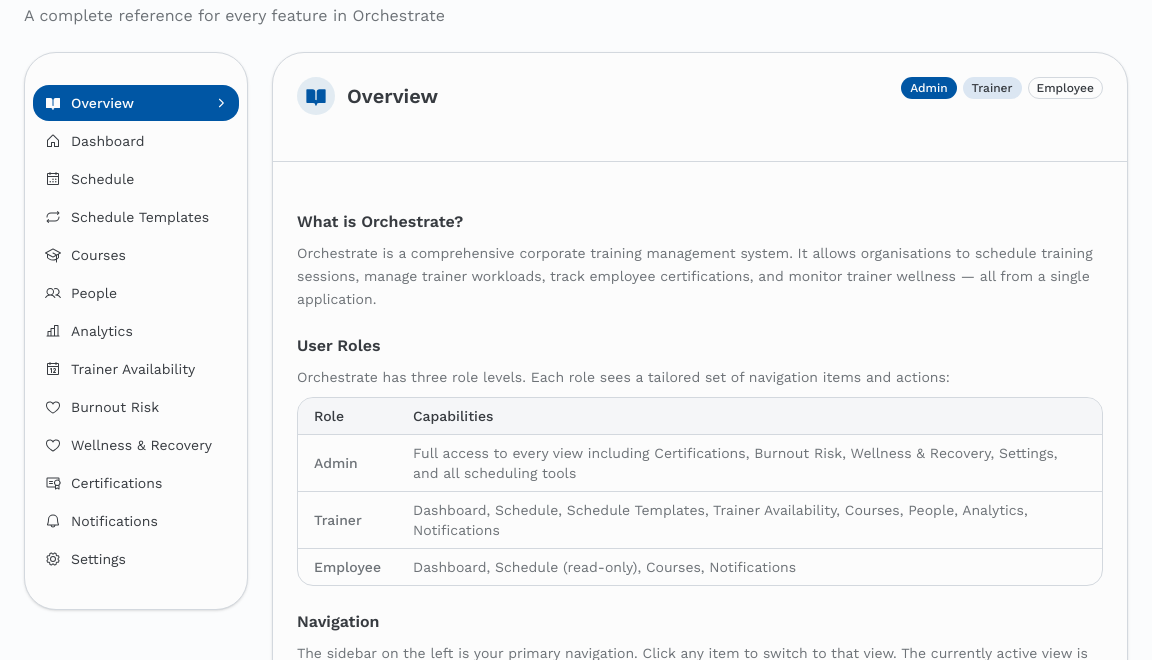
Test: UserGuide › renders Schedule Templates section content
Click the button "Schedule Templates". click: click(136, 217)
box: [33,199,239,235]
(page scrolled)
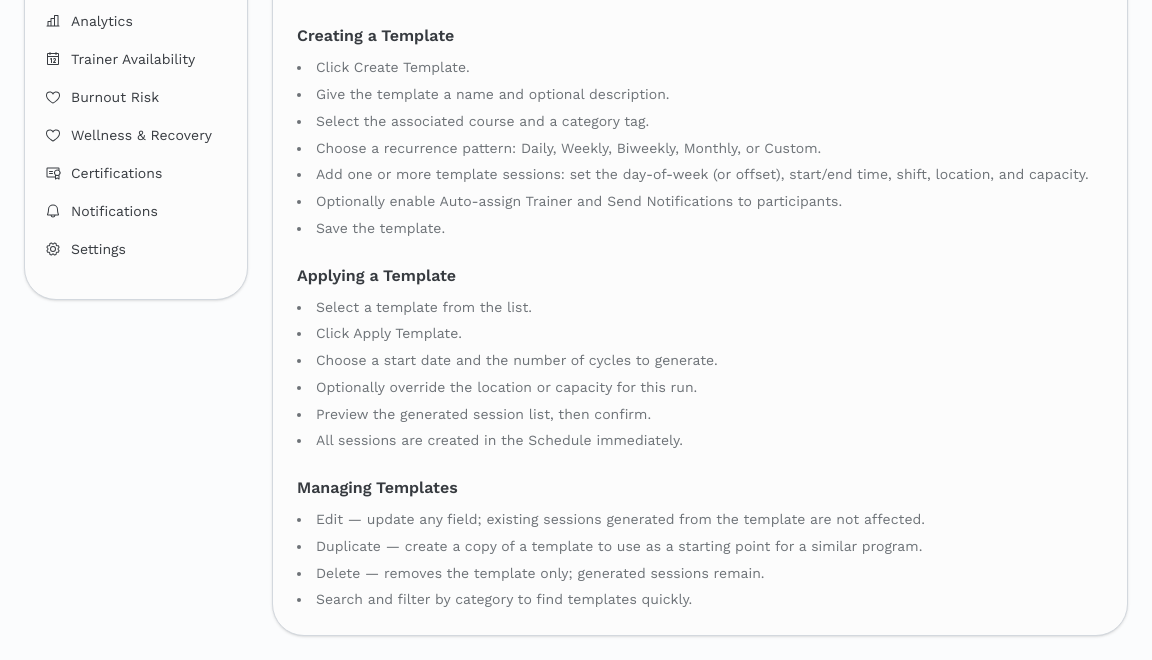
Expected: the heading "Creating a Template" is shown, [297,26,454,45]
Expected: the heading "Applying a Template" is shown, [297,266,456,284]
Expected: the heading "Managing Templates" is shown, [297,478,458,497]
